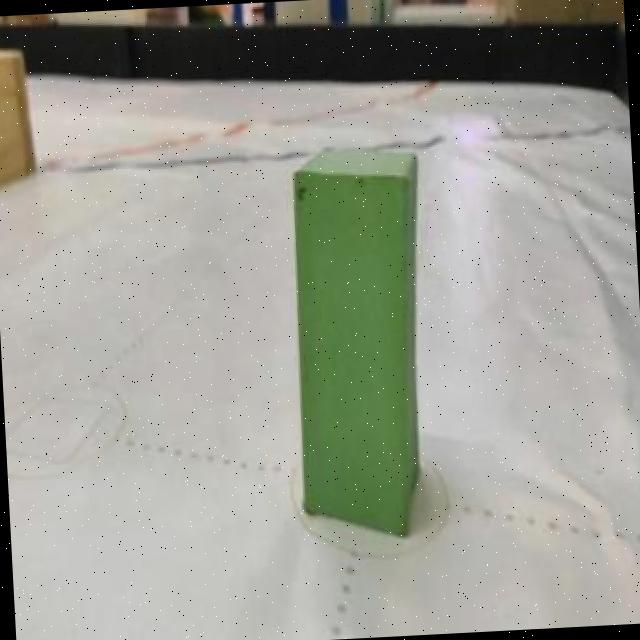greenbox: (282, 138, 438, 548)
